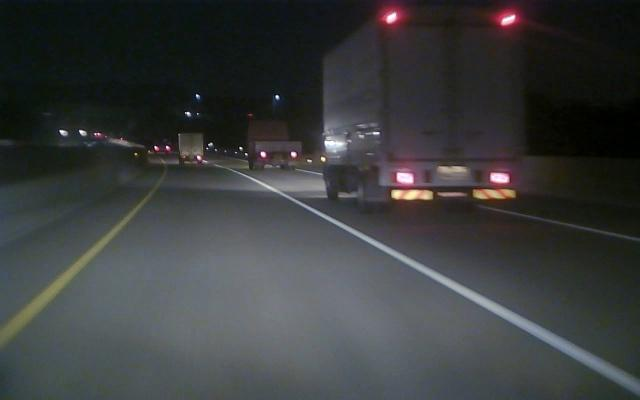lane: (256, 180, 631, 391), (1, 200, 146, 348), (491, 205, 640, 243)
